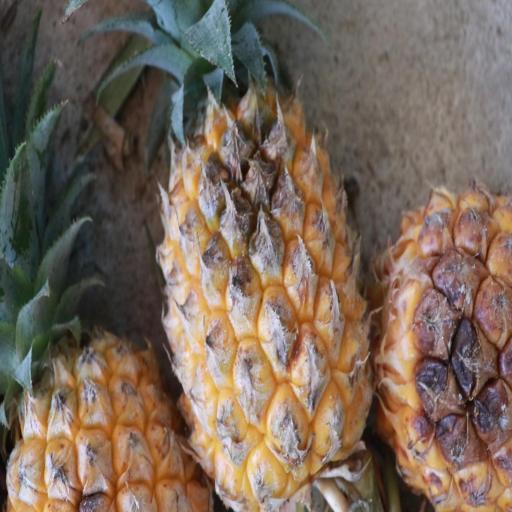Pineapple - v8 v1: (157, 42, 375, 512), (0, 187, 215, 512), (376, 175, 512, 512)
